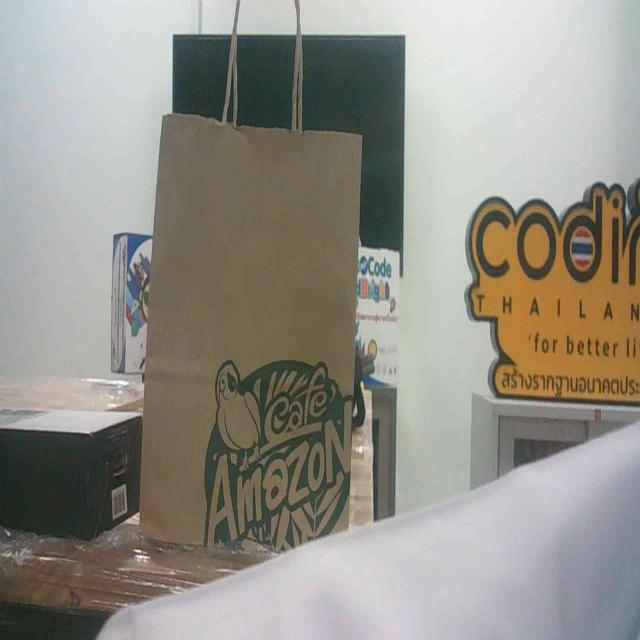bag: (147, 82, 366, 598)
